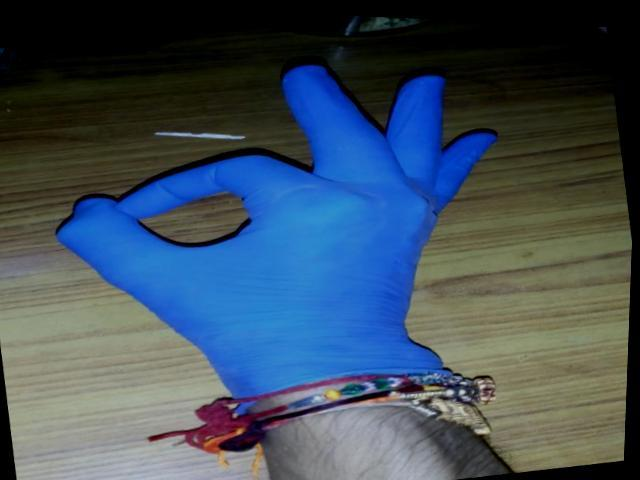Hand-in-Glove: (19, 13, 546, 438)
